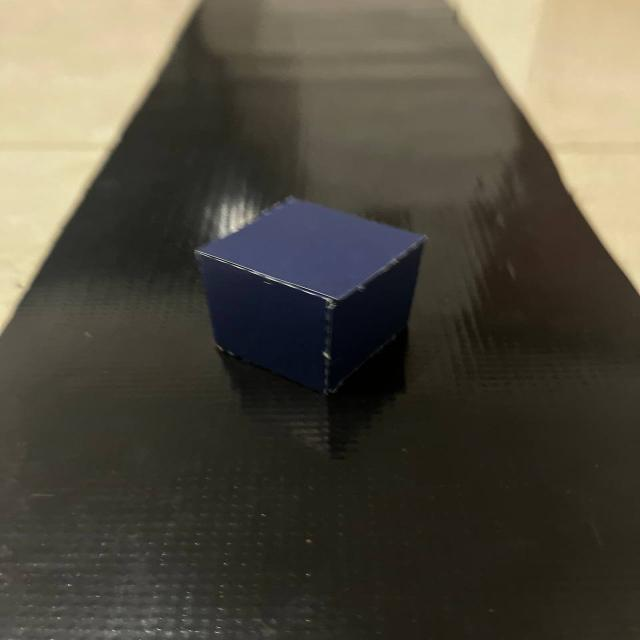Azul: (182, 182, 458, 400)
